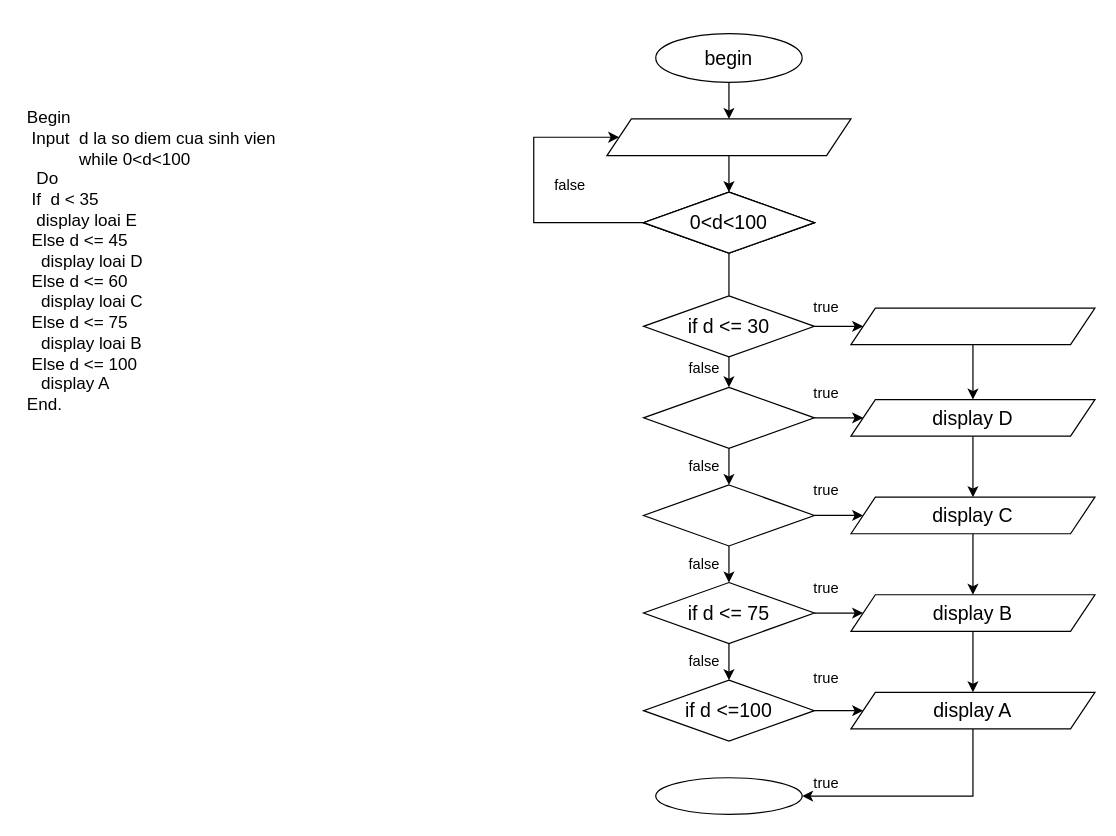
Image size: 1116x836. Some labels were removed from this diagram. The shapes that lost their labels are listed below. From the top down, each one's centre as x and y in pixels, then its label:
At point 728,137: "Input d".
At point 972,326: "display E".
At point 728,417: "if d <= 45".
At point 728,515: "if d <= 60".
At point 728,795: "End".
